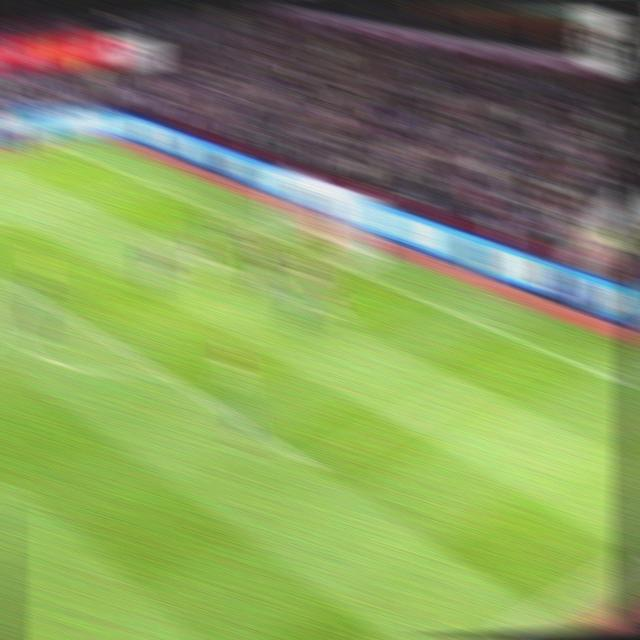bigarea_bottom_inner: (293, 448, 327, 480)
bigarea_bottom_outter: (533, 340, 558, 360)
bigarea_top_outter: (131, 174, 155, 189)
bottom_arc_area_intersection: (148, 360, 175, 384)
corner: (39, 136, 64, 149)
smallarea_bottom_inner: (323, 306, 350, 328)
smallarea_bottom_outter: (388, 280, 417, 303)
smallarea_top_inner: (151, 228, 175, 248)
smallarea_top_outter: (215, 210, 239, 228)
top_arc_area_intersection: (16, 282, 38, 301)
